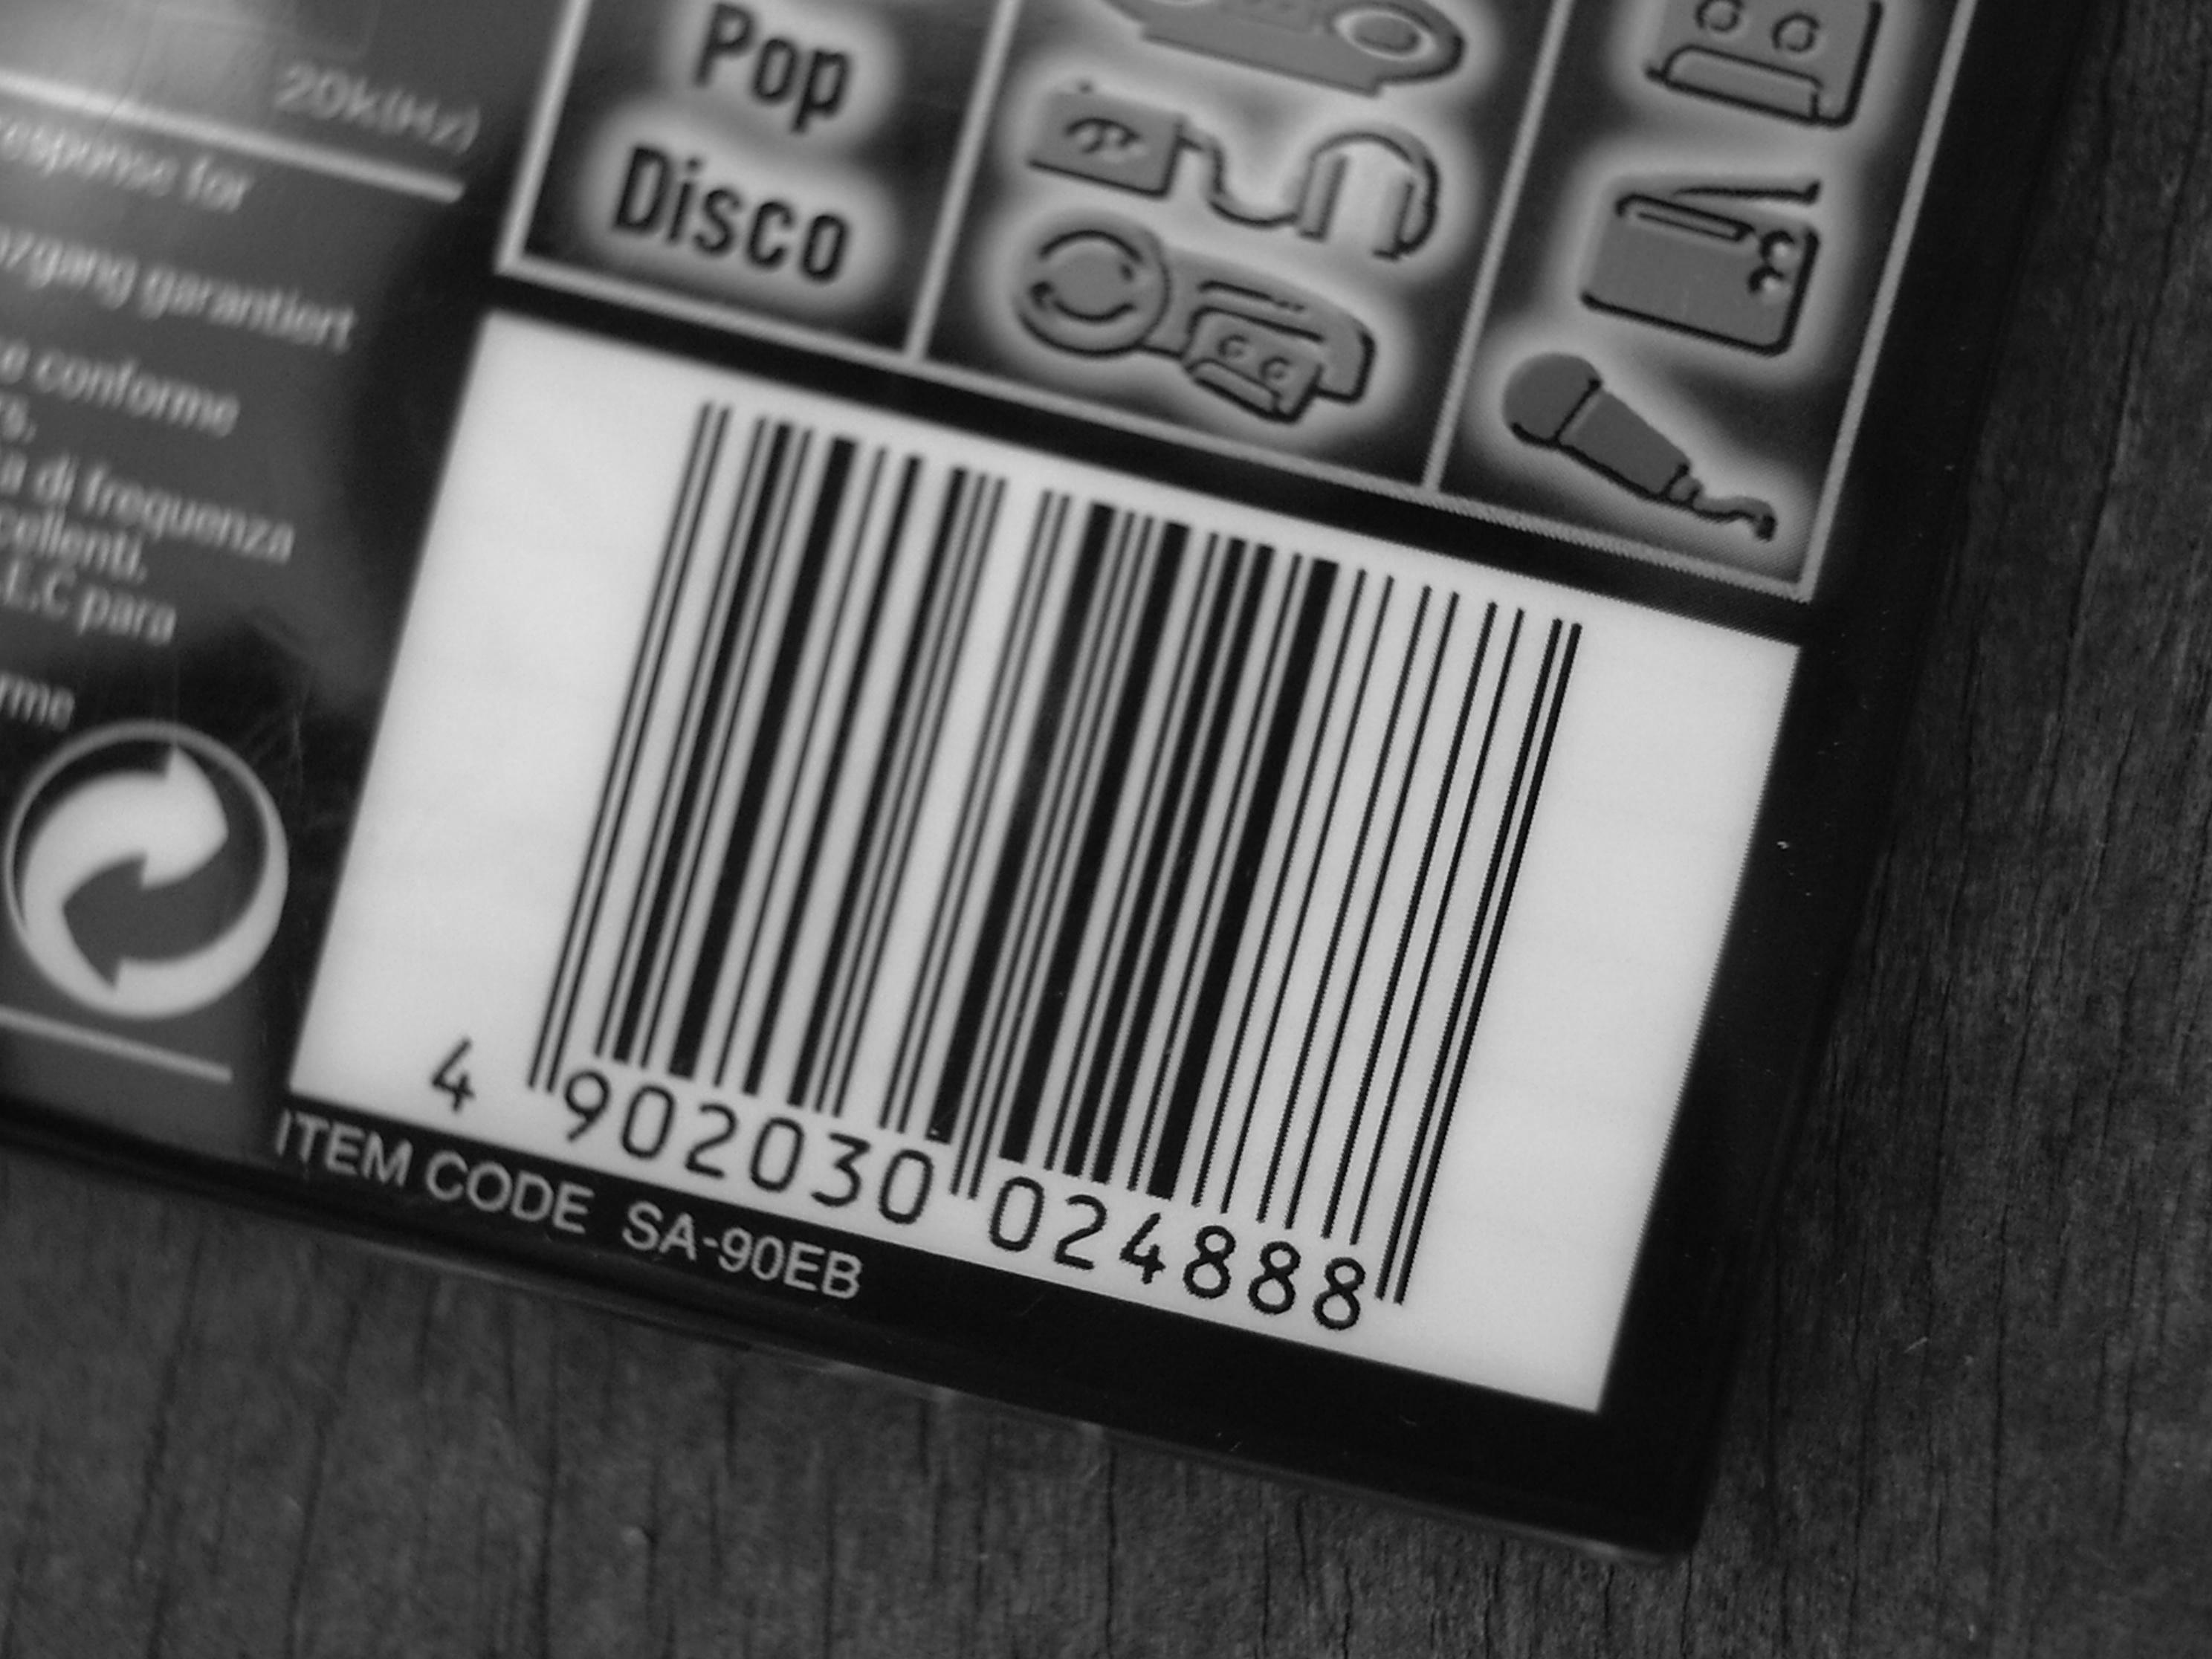Barcode: (601, 384, 1513, 1276)
